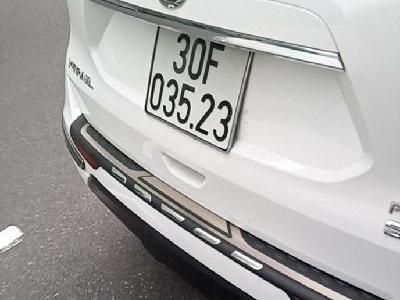lisence: (144, 25, 255, 156)
